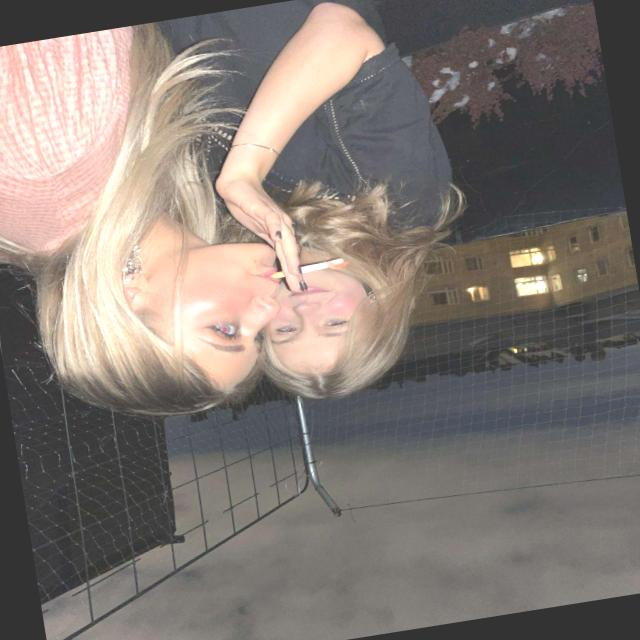smoke: (250, 238, 374, 294)
